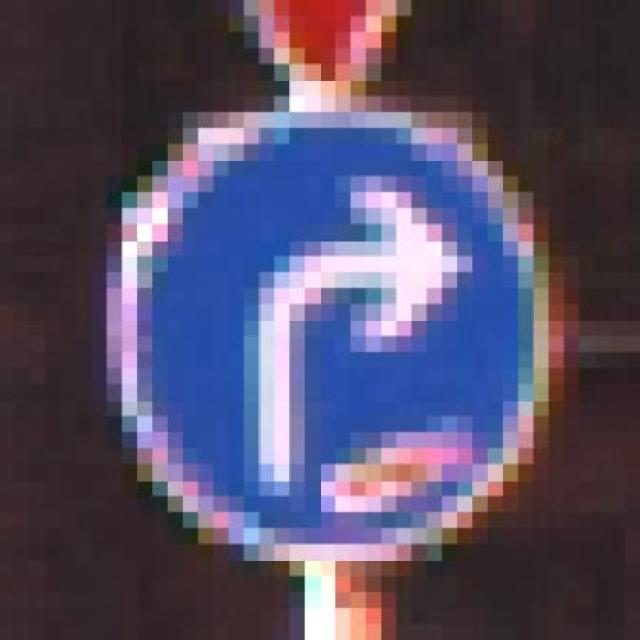Turn right ahead: (61, 96, 579, 576)
